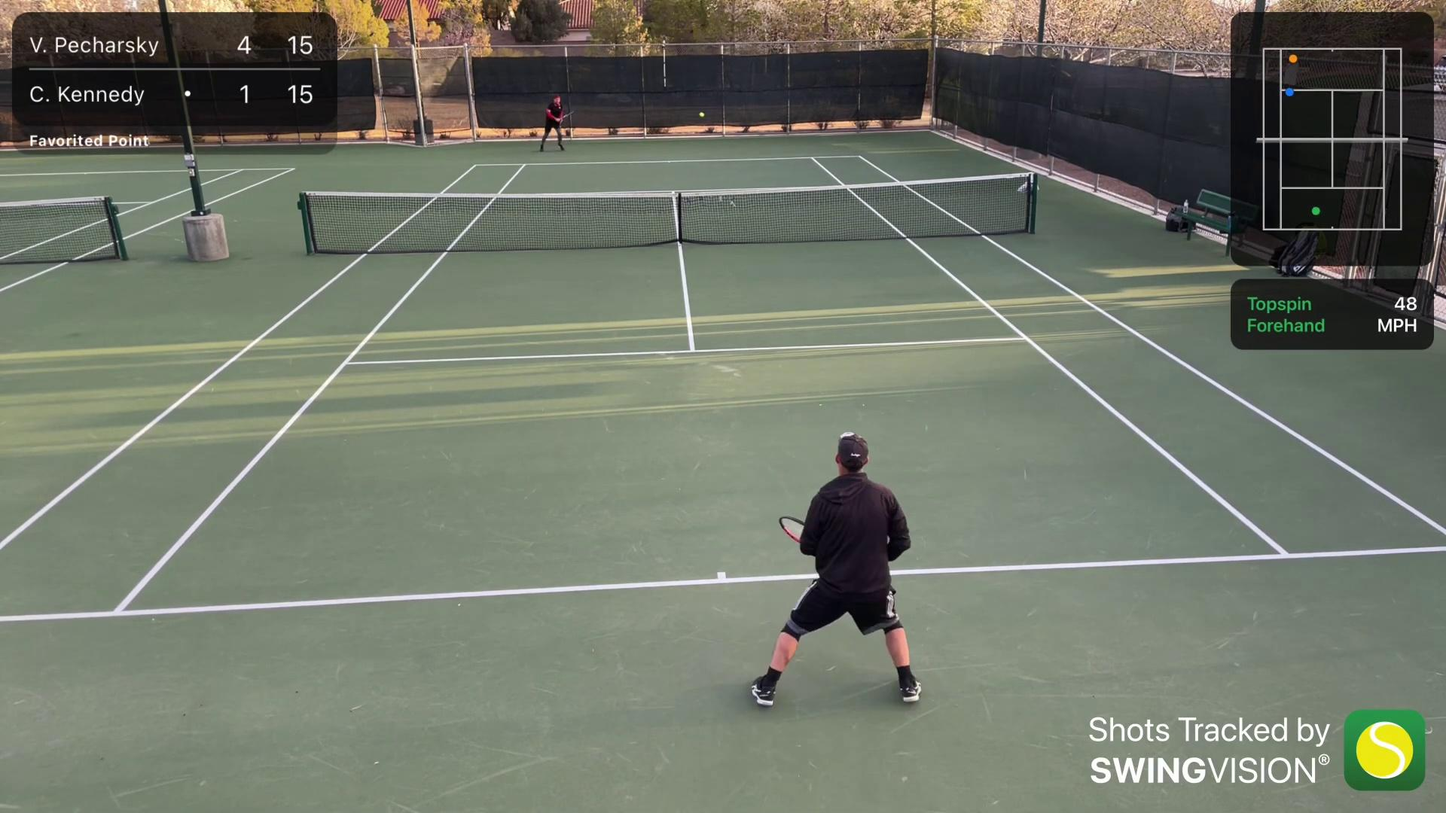ball: (699, 112, 706, 119)
